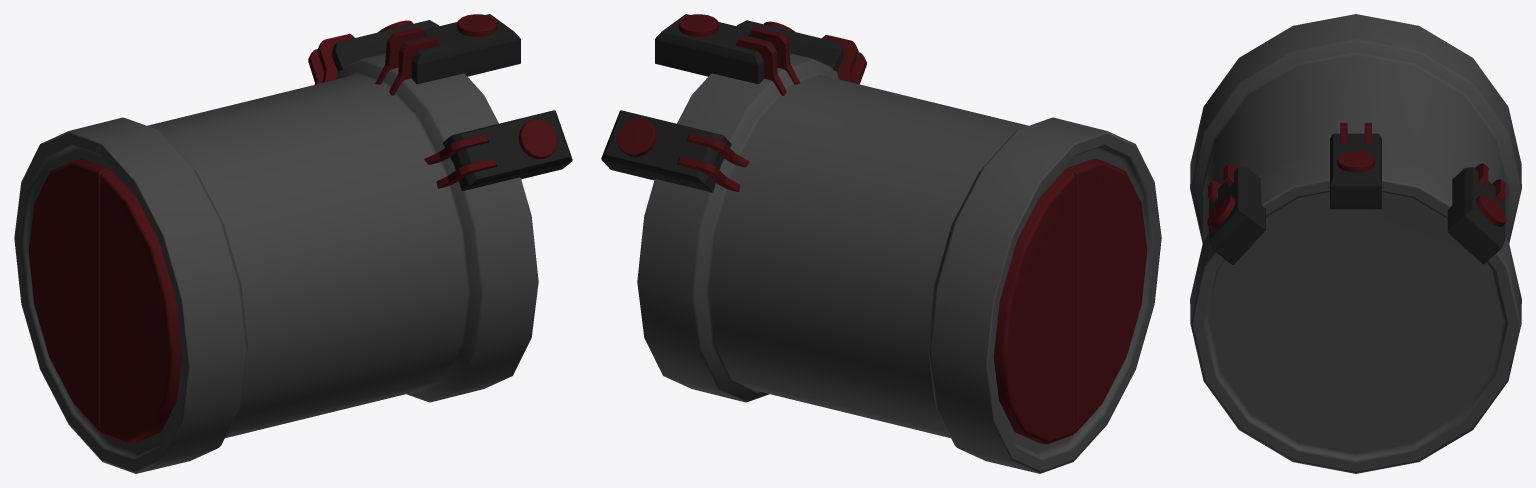
File: colony_Connecting_gateway.glb
3 views of the same model, side by side, from view 1: azimuth 30°, elevation 25°; view 2: azimuth 150°, elevation 25°; view 3: azimuth 270°, elevation 25° (orthographic). The views are drawn at different scales.
Visible parts, largest first — view 1: Connecting_gateway; view 2: Connecting_gateway; view 3: Connecting_gateway.
Boxes of the visible parts, x1,y1,x2,y2 form: Connecting_gateway: [14, 14, 572, 473]; Connecting_gateway: [601, 14, 1161, 473]; Connecting_gateway: [1190, 14, 1521, 473].
Bounding box in the file's own units: 369 × 301 × 276.
1 material, 1 textured.
